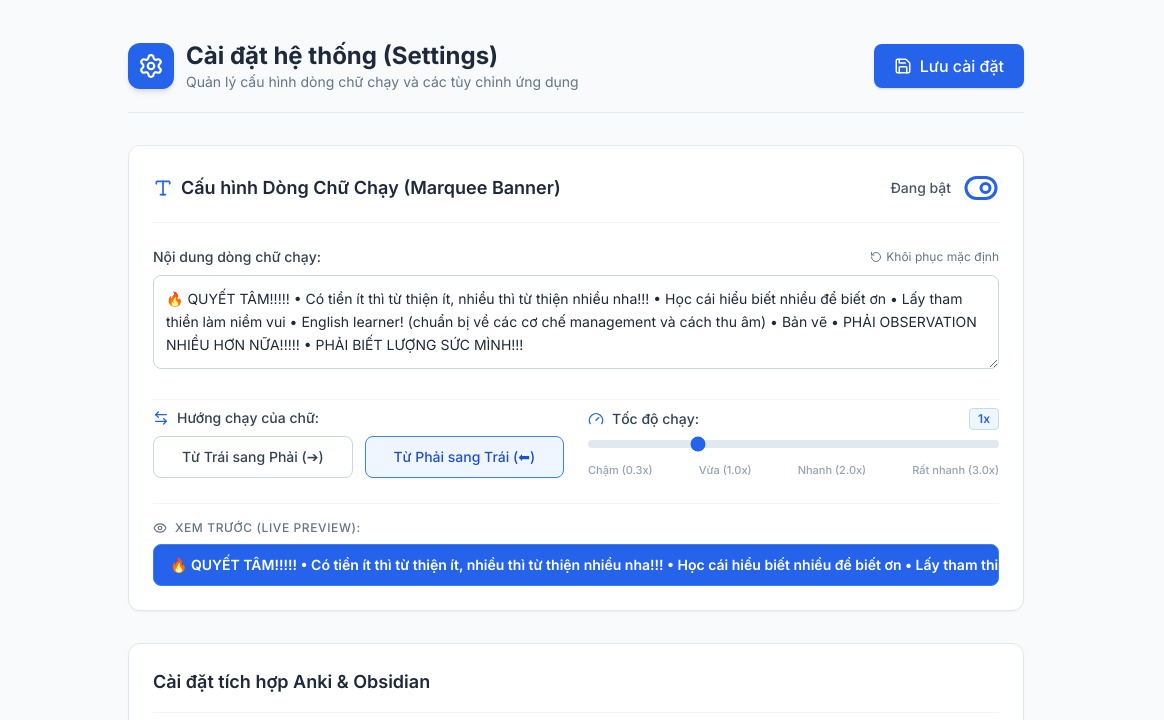
Test case: SettingsPage › shows a warning toast and local error message when saving fails
The width and height of the screenshot is (1164, 720).
What coordinates should you click on to do the following:
click the button "Lưu cài đặt"
I would click on:
 (949, 66)
Its box is [874,44,1024,88].
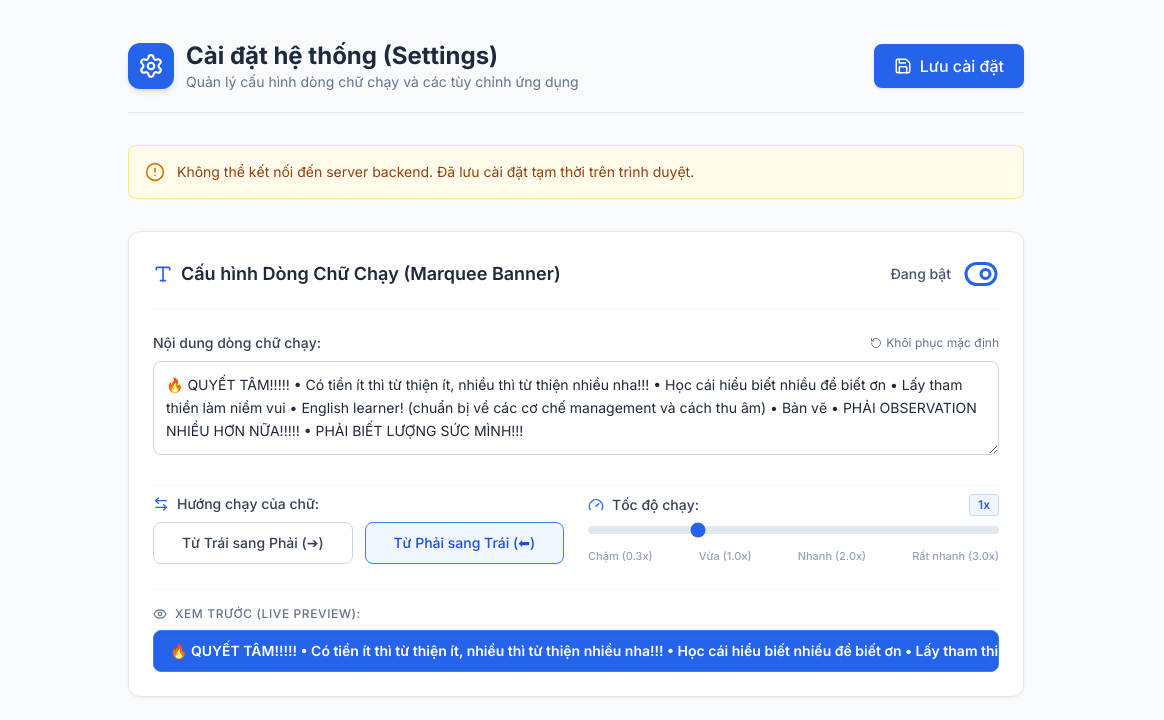
expect the text "Không thể kết nối đến server backend. Đã lưu cài đặt tạm thời trên trình duyệt." is shown: met, box [177,162,694,182]
